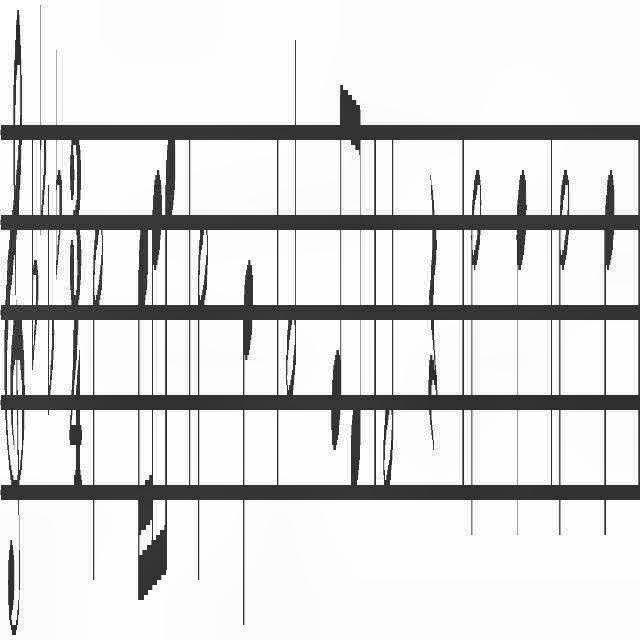Bass-clef: (2, 0, 26, 640)
Bemol: (30, 125, 38, 379), (54, 39, 62, 289), (47, 186, 55, 432), (38, 1, 46, 240)
Eighth-note: (330, 60, 346, 468), (164, 114, 176, 606), (348, 67, 360, 489)
Half-note: (470, 157, 482, 561), (92, 200, 104, 600), (382, 104, 394, 504), (558, 160, 570, 560), (286, 28, 298, 426), (198, 207, 210, 597)
Quarter-note: (516, 150, 528, 568), (602, 150, 614, 558), (242, 246, 254, 640)
Quarter-rest: (429, 168, 439, 468)
Sixteenth-note: (150, 160, 162, 622), (136, 218, 148, 632)
